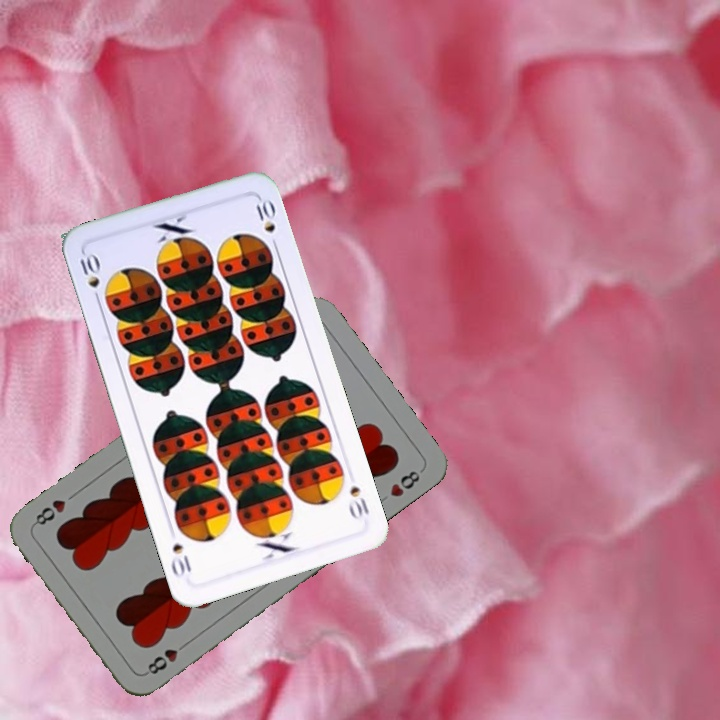H8: (140, 637, 191, 678)
S10: (74, 249, 103, 307), (345, 481, 372, 522)
